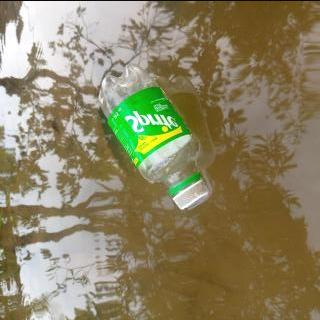bottle: (98, 63, 210, 210)
